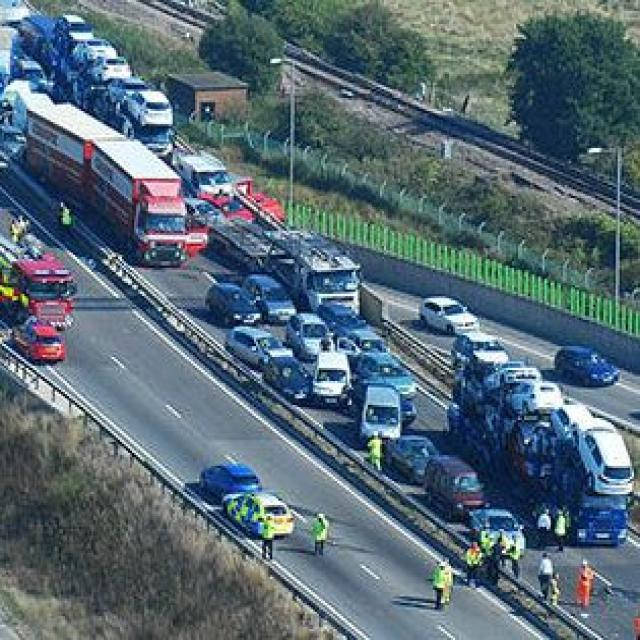traffic_incident: (191, 268, 435, 438)
